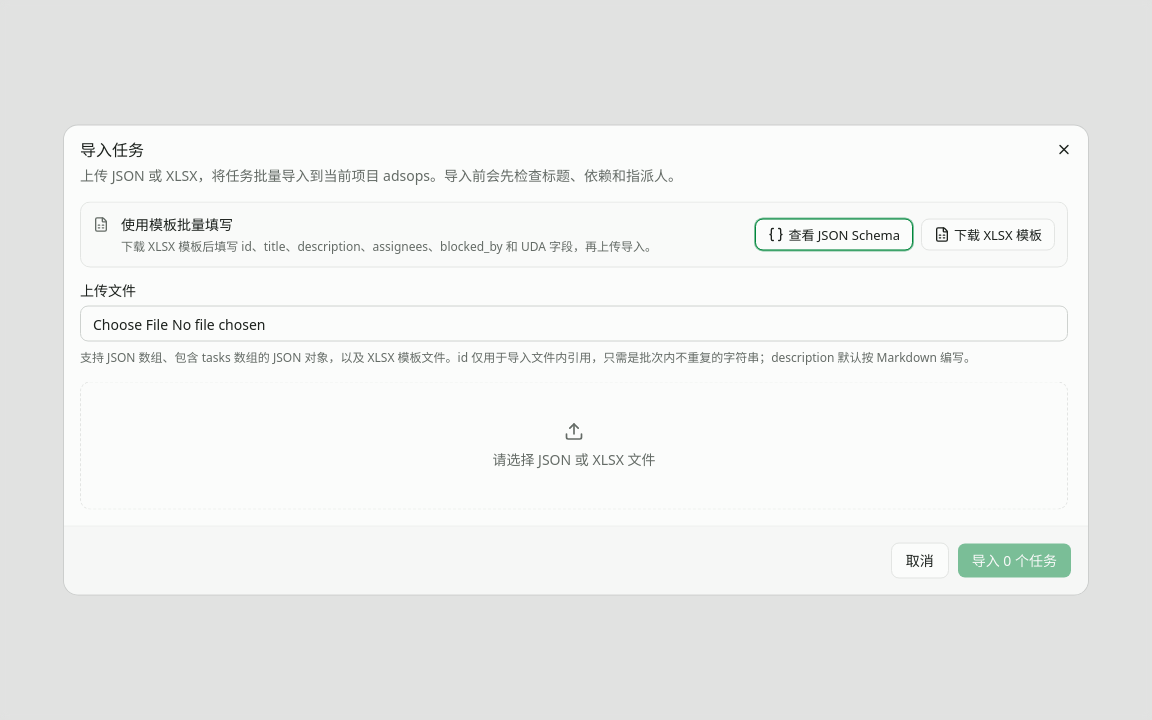
Test: TaskImportDialog › copies the complete JSON schema from the secondary dialog
Click the button "查看 JSON Schema" at [834, 234], box [755,218,913,250]
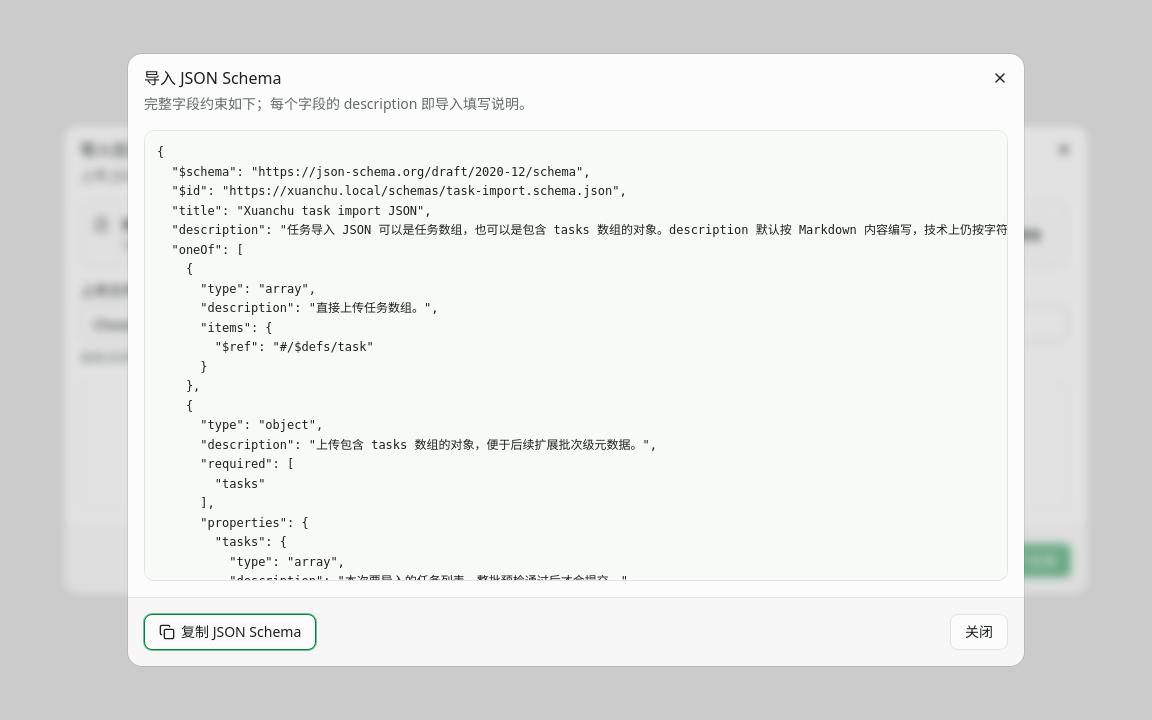
Click the button "复制 JSON Schema" at [230, 632], box [144,614,316,650]
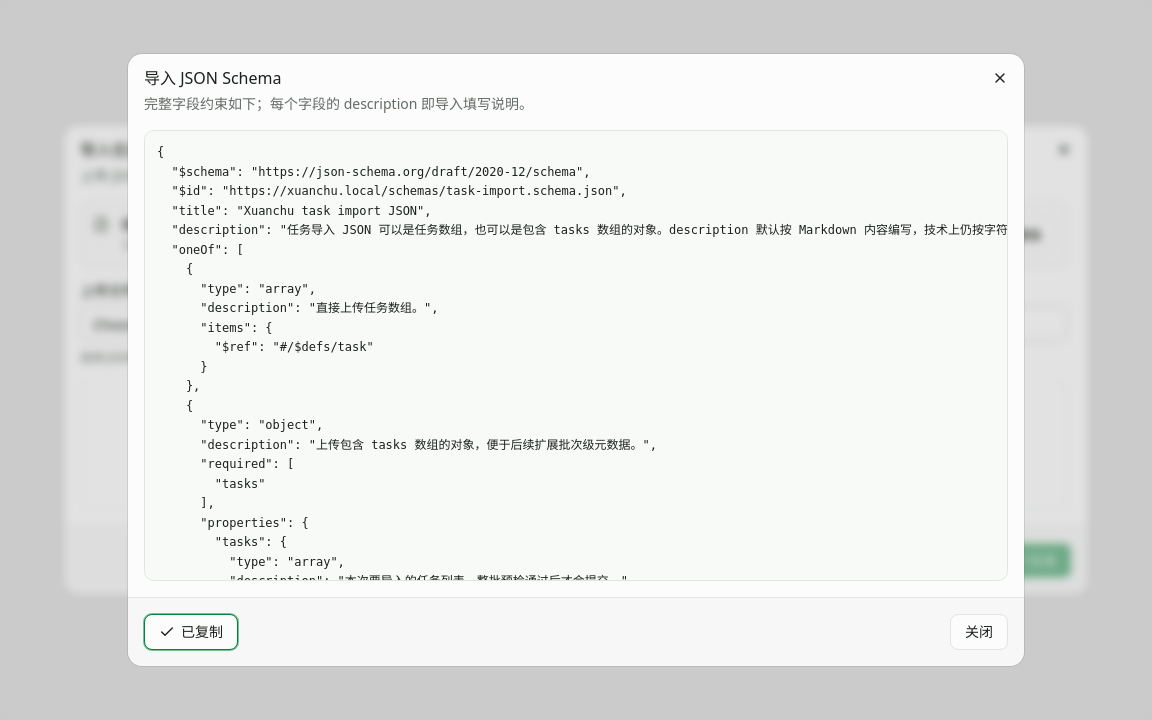
Check: the button "已复制" is shown, box [144,614,238,650]
